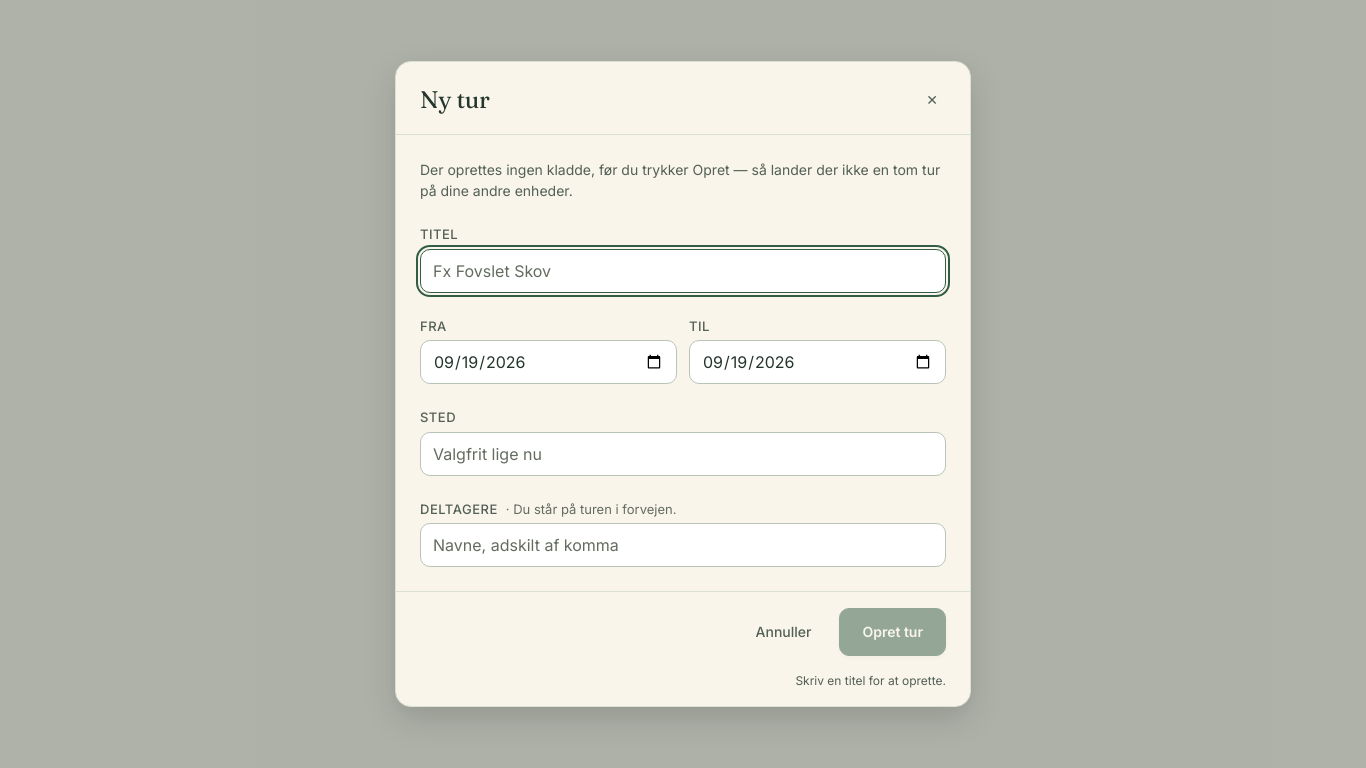
Test: Opret er slået fra, indtil navnet er gyldigt › bliver slået fra igen, hvis man sletter titlen
Type "Fovslet" into the field labelled "Titel" at (683, 270), box top-left (420, 248), bottom-right (946, 292)
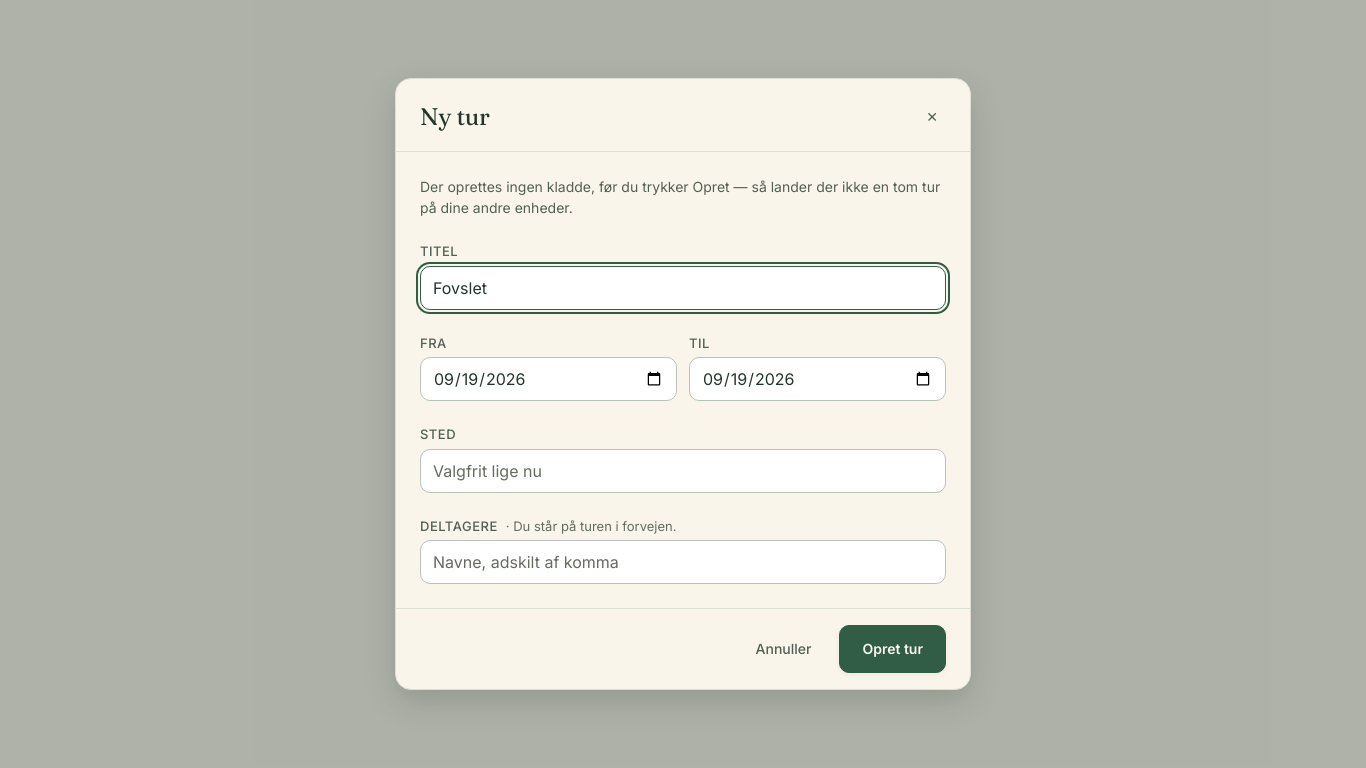
Clear the field labelled "Titel" at (683, 288), box top-left (420, 266), bottom-right (946, 310)
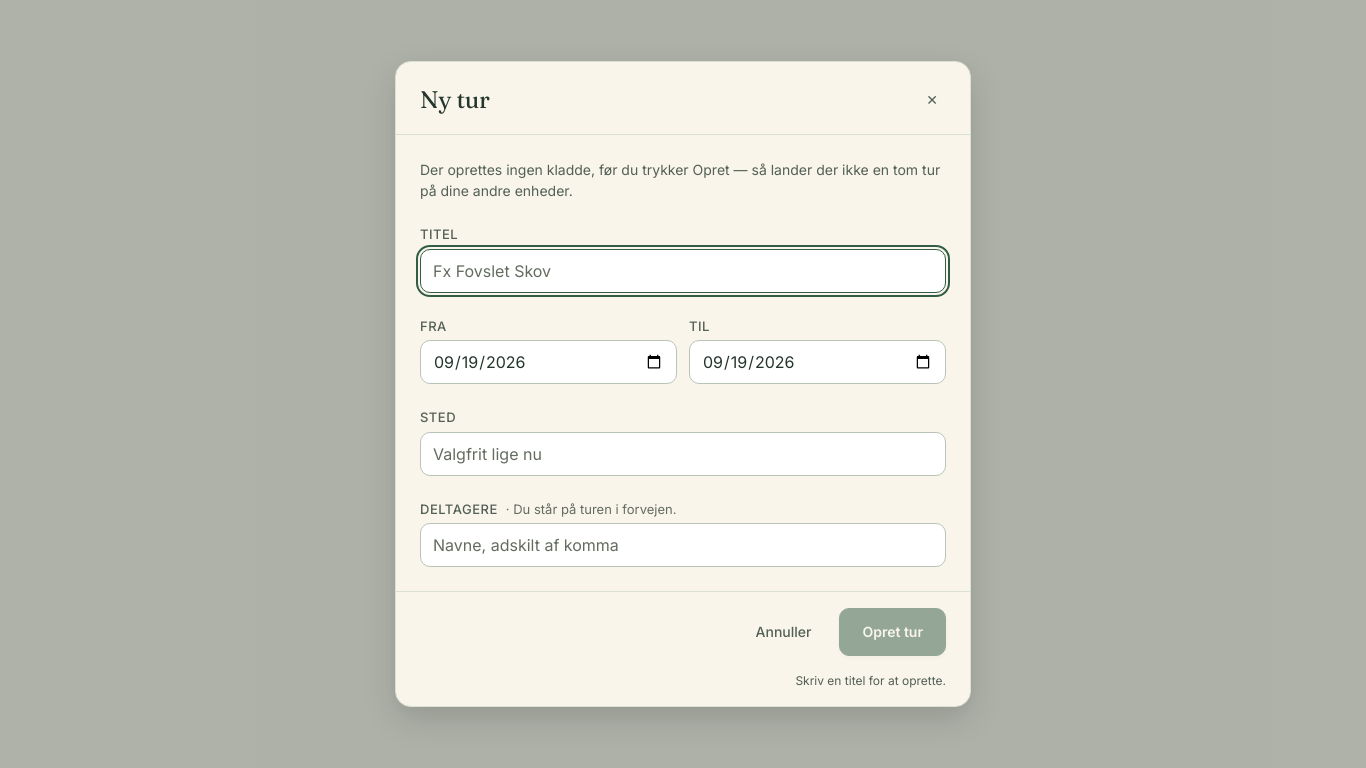
Expected: the button "Opret tur" is disabled, top-left (839, 608), bottom-right (946, 656)
